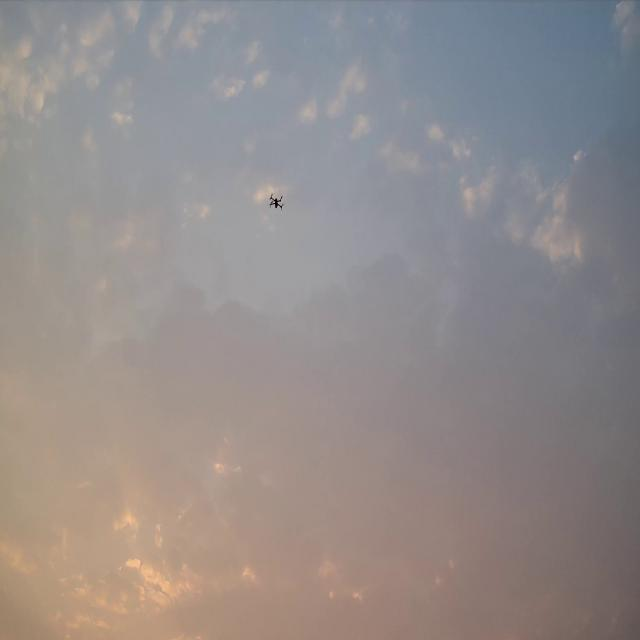drone: (268, 192, 284, 210)
